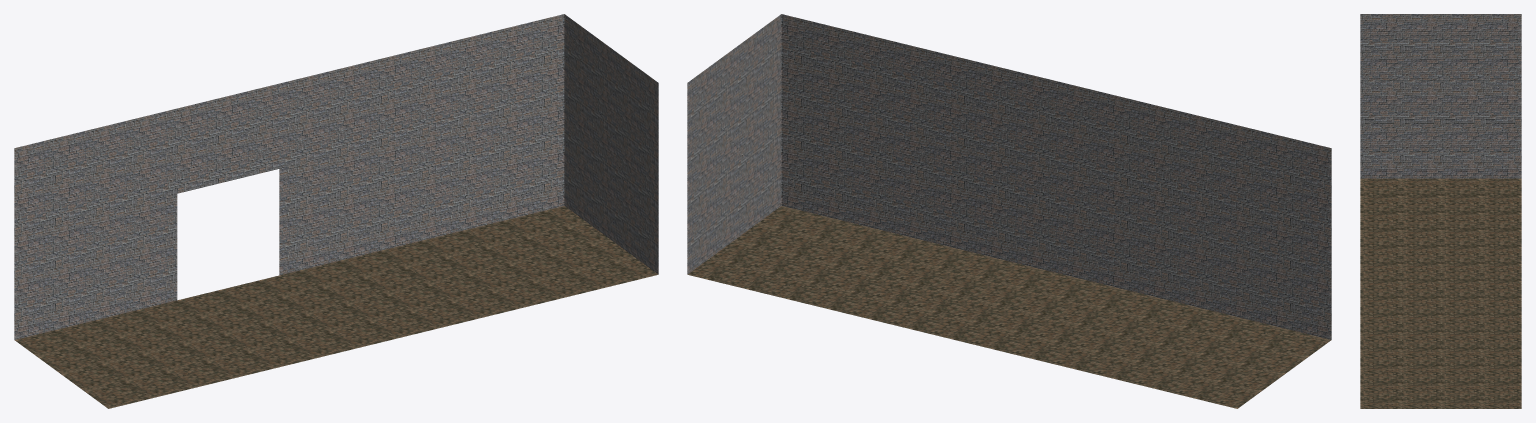
File: room.gltf
3 renders of one model, left to right at view 1: azimuth 30°, elevation 25°; view 2: azimuth 150°, elevation 25°; view 3: azimuth 270°, elevation 25°, orthographic. The views are drawn at different scales.
Parts seen in each view (by area): view 1: parent; view 2: parent; view 3: parent.
Part boxes in pixels (x1,y1,x2,y2): parent: [14, 14, 658, 408]; parent: [687, 14, 1331, 408]; parent: [1360, 14, 1521, 408].
Bounding box in the file's own units: 13.5 × 4.5 × 4.
